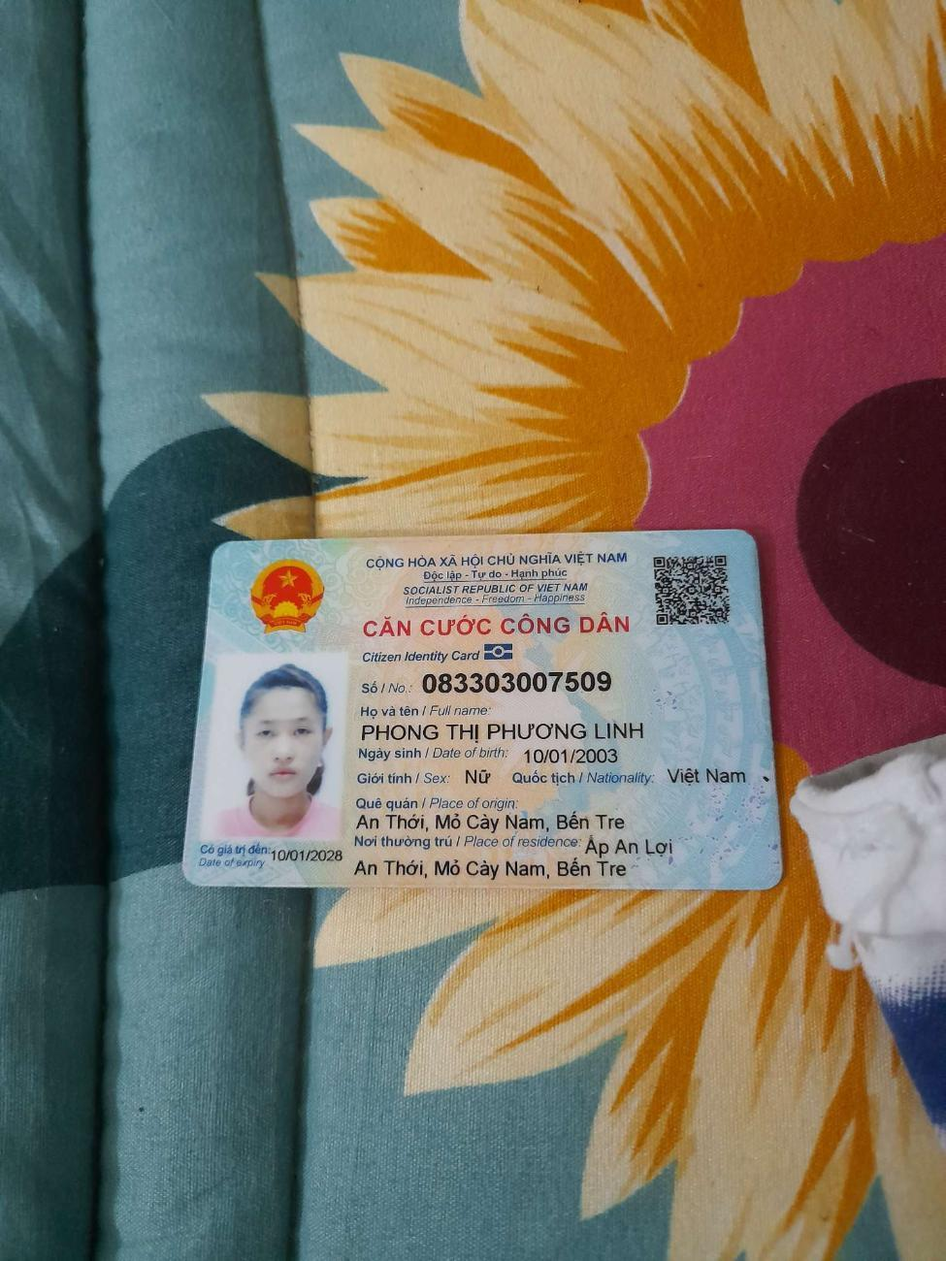ID: (418, 667, 615, 699)
birth: (517, 744, 622, 767)
name: (358, 717, 649, 744)
place: (349, 811, 629, 833)
residence: (347, 854, 631, 883), (581, 833, 675, 859)
